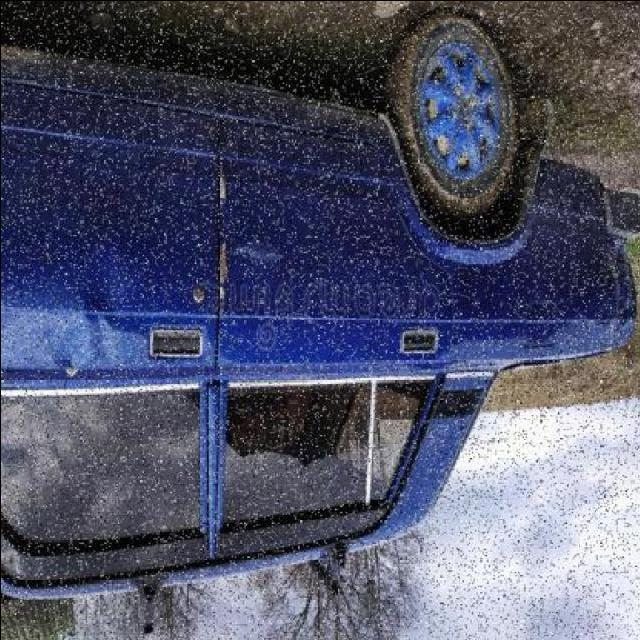doorouter-dent: (220, 123, 440, 377), (1, 115, 214, 377)
